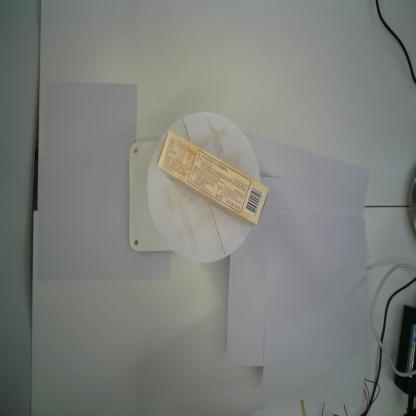Dessert: (156, 130, 270, 228)
